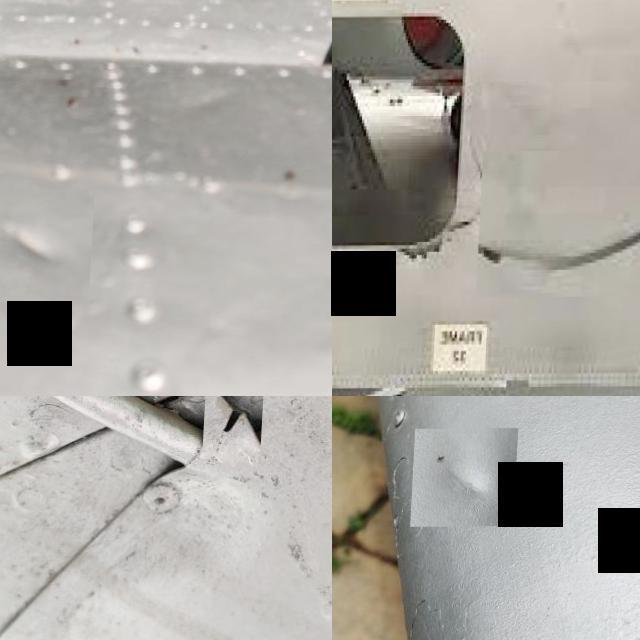Crack: (481, 150, 640, 298), (206, 396, 267, 452)
Dent: (0, 191, 98, 302), (414, 429, 520, 528)
